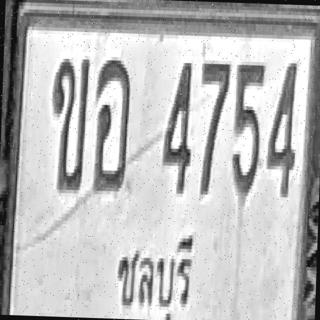A02: (50, 54, 89, 190)
A43: (92, 56, 131, 192)
N04: (161, 58, 194, 194), (266, 59, 298, 197)
N05: (230, 58, 265, 200)
N07: (198, 58, 230, 196)
P13: (111, 225, 195, 320)
